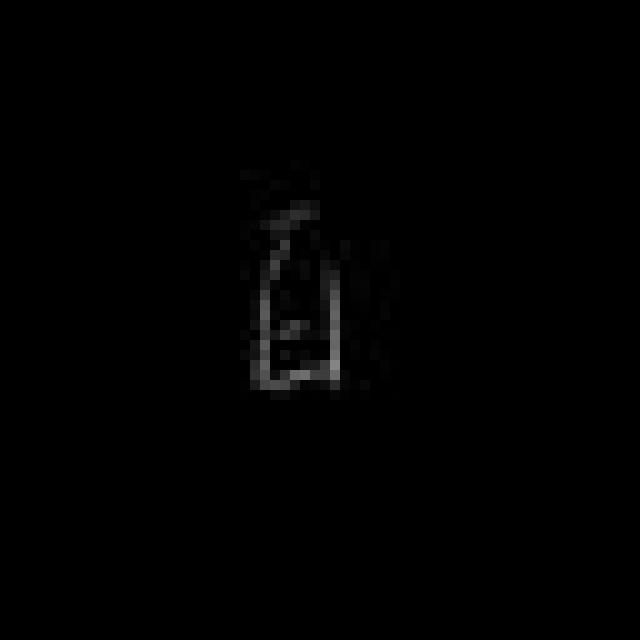100 -a hundred-: (237, 190, 347, 400)
